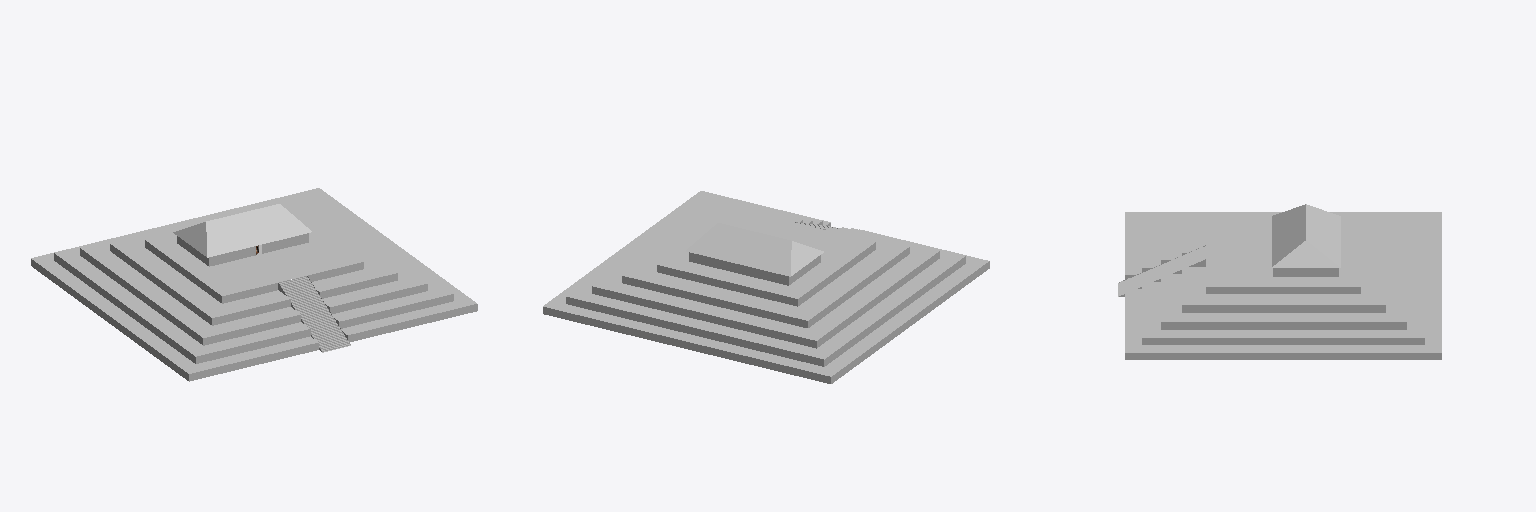
The picture shows the model from 3 angles: view 1: azimuth 30°, elevation 25°; view 2: azimuth 150°, elevation 25°; view 3: azimuth 270°, elevation 25°; orthographic projection.
Parts seen in each view (by area): view 1: Plane, Techo, Plane.001, Rancho; view 2: Plane, Techo, Rancho; view 3: Plane, Techo, Plane.001, Rancho.
Part boxes in pixels (left/top/right/bottom): Plane: left=31, top=188, right=477, bottom=381; Techo: left=173, top=204, right=311, bottom=257; Plane.001: left=279, top=276, right=350, bottom=352; Rancho: left=177, top=233, right=308, bottom=266; Plane: left=543, top=191, right=989, bottom=383; Techo: left=686, top=223, right=823, bottom=276; Rancho: left=689, top=252, right=820, bottom=285; Plane: left=1125, top=212, right=1441, bottom=359; Techo: left=1272, top=204, right=1340, bottom=267; Plane.001: left=1118, top=246, right=1205, bottom=296; Rancho: left=1273, top=268, right=1338, bottom=276.
Size of the model in its own units: 80 by 17.96 by 77.82.
Materials: 4 (1 with a texture image).